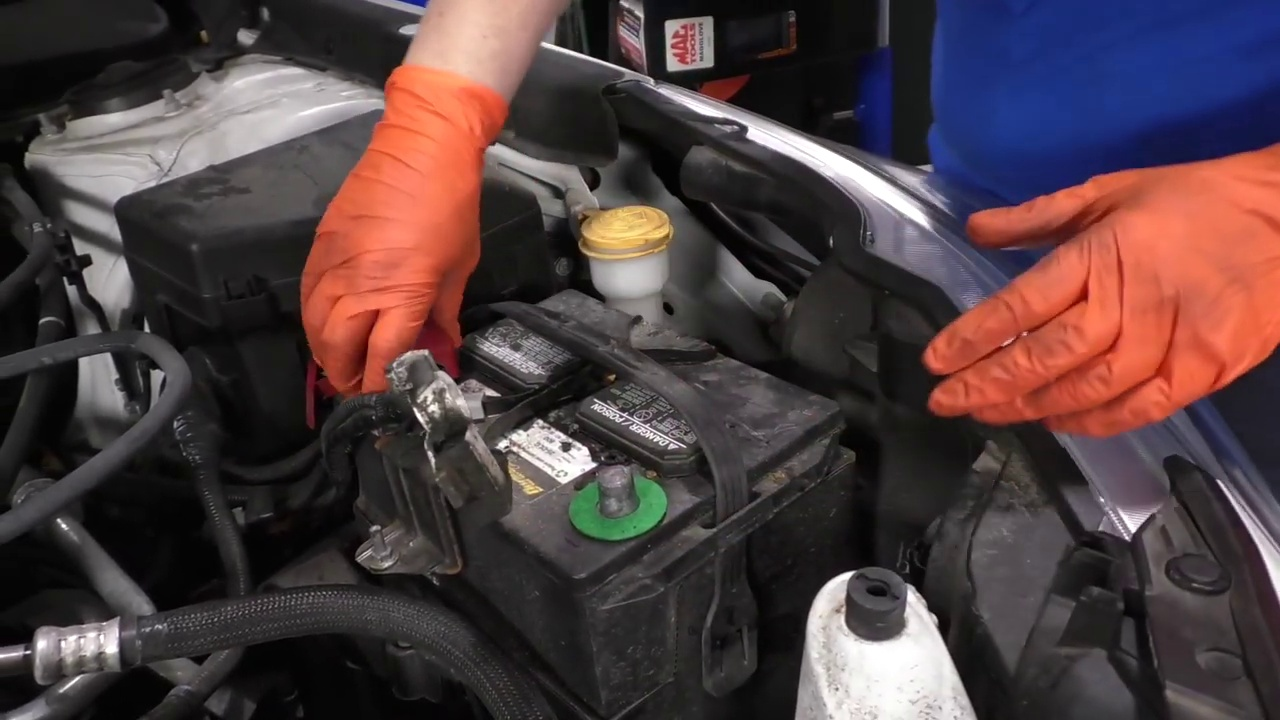battery: (334, 303, 850, 573)
neg_disconnected: (561, 449, 692, 550)
pos_touched: (287, 295, 514, 430)
